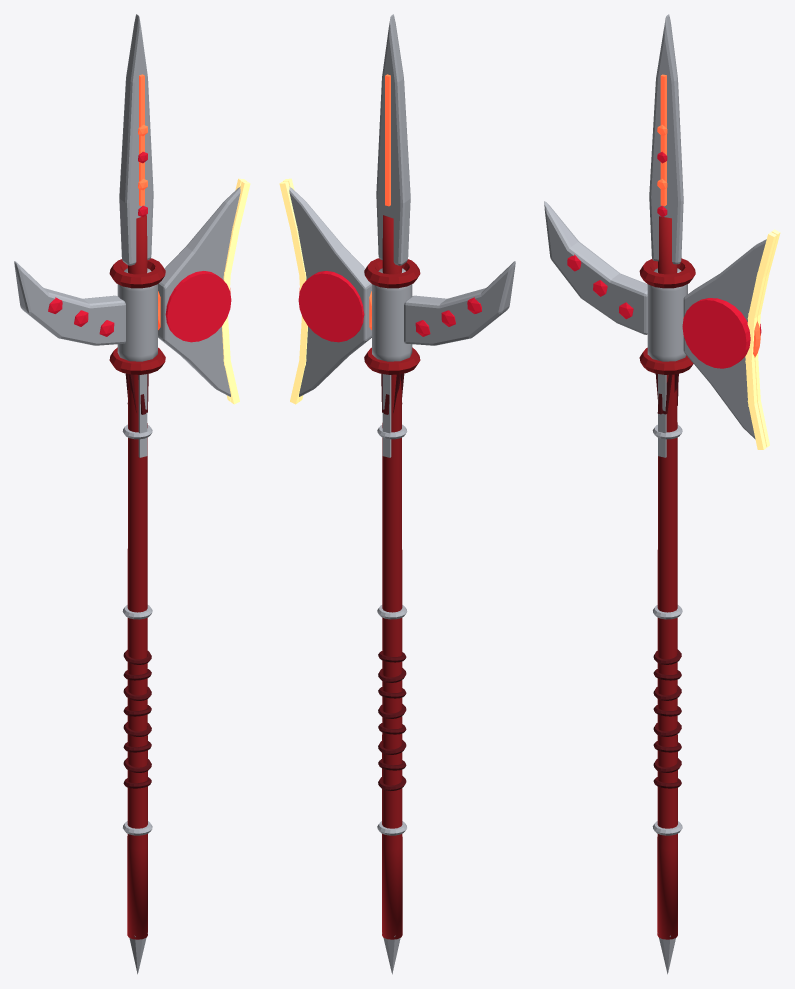
File: crimson-eclipse.glb
The picture shows the model from 3 angles, left to right: view 1: azimuth 30°, elevation 25°; view 2: azimuth 150°, elevation 25°; view 3: azimuth 330°, elevation 25°; orthographic projection.
Visible parts, largest first — view 1: AX17_Pole, AX17_Moon, AX17_Spike, AX17_Fluke, AX17_MoonDisc, AX17_Socket, AX17_Socket_Top, AX17_Socket_Bot, AX17_Langet-1, AX17_Channel; view 2: AX17_Pole, AX17_Moon, AX17_Spike, AX17_Fluke, AX17_MoonDisc, AX17_Socket, AX17_Socket_Top, AX17_Socket_Bot, AX17_Channel, AX17_Langet1; view 3: AX17_Pole, AX17_Fluke, AX17_Spike, AX17_Moon, AX17_MoonDisc, AX17_Socket, AX17_Socket_Top, AX17_Socket_Bot, AX17_Channel, AX17_Langet-1.
Boxes of the visible parts, x1,y1,x2,y2 form: AX17_Pole: [127, 215, 147, 939]; AX17_Moon: [158, 186, 240, 396]; AX17_Spike: [119, 14, 153, 265]; AX17_Fluke: [14, 261, 125, 345]; AX17_MoonDisc: [165, 271, 231, 342]; AX17_Socket: [117, 268, 157, 361]; AX17_Socket_Top: [109, 258, 165, 288]; AX17_Socket_Bot: [109, 347, 165, 374]; AX17_Langet-1: [138, 374, 147, 457]; AX17_Channel: [139, 74, 144, 206]; AX17_Pole: [382, 215, 402, 939]; AX17_Moon: [289, 186, 371, 396]; AX17_Spike: [376, 14, 410, 265]; AX17_Fluke: [404, 261, 515, 345]; AX17_MoonDisc: [298, 271, 364, 342]; AX17_Socket: [372, 268, 412, 361]; AX17_Socket_Top: [364, 258, 420, 288]; AX17_Socket_Bot: [364, 347, 420, 374]; AX17_Channel: [385, 74, 390, 206]; AX17_Langet1: [382, 374, 391, 457]; AX17_Pole: [657, 216, 677, 939]; AX17_Fluke: [544, 201, 647, 334]; AX17_Spike: [649, 14, 683, 264]; AX17_Moon: [683, 239, 766, 439]; AX17_MoonDisc: [682, 298, 761, 368]; AX17_Socket: [647, 268, 687, 361]; AX17_Socket_Top: [639, 258, 695, 288]; AX17_Socket_Bot: [639, 347, 693, 374]; AX17_Channel: [660, 74, 666, 206]; AX17_Langet-1: [658, 374, 666, 457].
Size of the model in its own units: 0.6767 by 2.66 by 0.1428.
